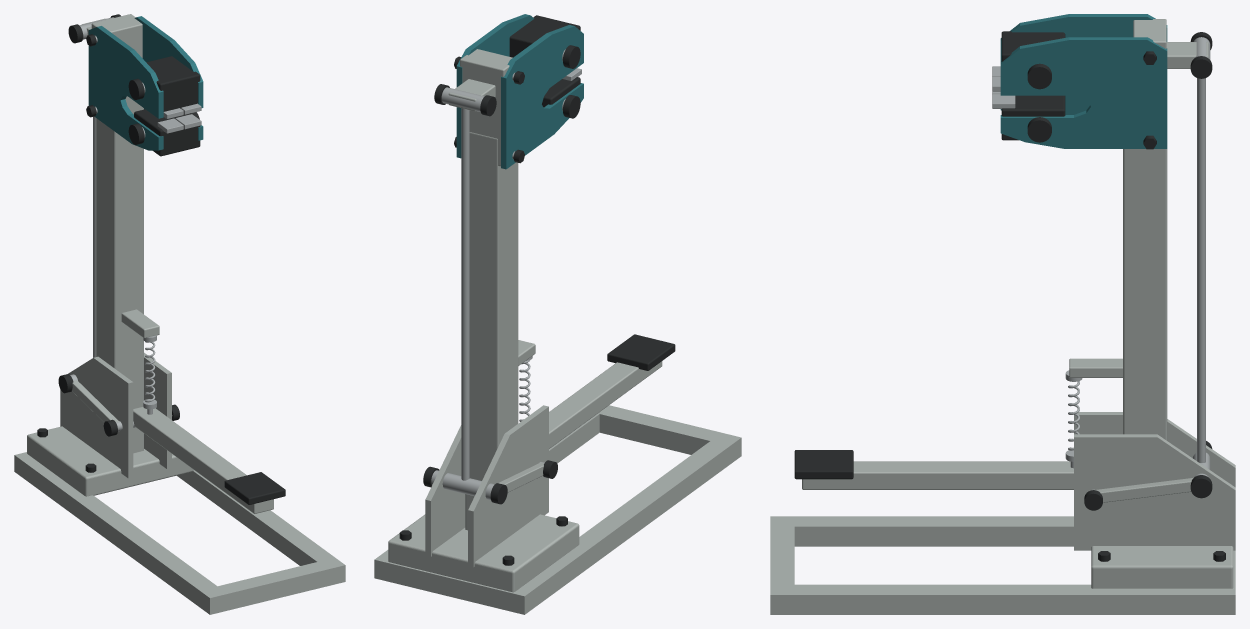
3 renders of one model, left to right at view 1: azimuth 30°, elevation 25°; view 2: azimuth 150°, elevation 25°; view 3: azimuth 270°, elevation 25°, orthographic. The views are drawn at different scales.
Parts seen in each view (by area): view 1: Integral rectangular floor rail base, Tall square support column, Paired C profile head sideplate -0.056, Lower linkage support cheek -0.054, Column floor mounting plate, Long forward foot pedal, Upper jaw supporting carrier, Paired C profile head sideplate 0.056, Lower linkage support cheek 0.054, Front pedal foot grip, Lower jaw supporting carrier, Head rear mounting spine (+3 smaller); view 2: Tall square support column, Integral rectangular floor rail base, Column floor mounting plate, Lower linkage support cheek -0.054, Paired C profile head sideplate -0.056, Long forward foot pedal, Long rear vertical actuation link, Lower linkage support cheek 0.054, Head rear mounting spine, Paired C profile head sideplate 0.056, Front pedal foot grip, Upper jaw supporting carrier (+5 smaller); view 3: Integral rectangular floor rail base, Paired C profile head sideplate 0.056, Lower linkage support cheek 0.054, Tall square support column, Long forward foot pedal, Column floor mounting plate, Long rear vertical actuation link, Paired C profile head sideplate -0.056, Lower linkage support cheek -0.054, Front pedal foot grip, Lower jaw supporting carrier, Side routed lower rocker 0.071 (+4 smaller).
Boxes of the visible parts, bbox=[...] form: Integral rectangular floor rail base: bbox=[14, 452, 345, 614]; Tall square support column: bbox=[96, 96, 143, 453]; Paired C profile head sideplate -0.056: bbox=[88, 26, 163, 150]; Lower linkage support cheek -0.054: bbox=[60, 356, 133, 478]; Column floor mounting plate: bbox=[27, 426, 193, 496]; Long forward foot pedal: bbox=[133, 407, 273, 513]; Upper jaw supporting carrier: bbox=[146, 56, 200, 111]; Paired C profile head sideplate 0.056: bbox=[134, 16, 203, 140]; Lower linkage support cheek 0.054: bbox=[144, 352, 171, 468]; Front pedal foot grip: bbox=[224, 472, 285, 504]; Lower jaw supporting carrier: bbox=[134, 109, 200, 156]; Head rear mounting spine: bbox=[91, 14, 142, 57]; Tall square support column: bbox=[465, 132, 518, 530]; Integral rectangular floor rail base: bbox=[374, 405, 741, 614]; Column floor mounting plate: bbox=[388, 514, 579, 592]; Lower linkage support cheek -0.054: bbox=[468, 405, 548, 567]; Paired C profile head sideplate -0.056: bbox=[501, 25, 583, 169]; Long forward foot pedal: bbox=[549, 361, 662, 448]; Long rear vertical actuation link: bbox=[461, 108, 469, 480]; Lower linkage support cheek 0.054: bbox=[425, 425, 465, 556]; Head rear mounting spine: bbox=[460, 49, 512, 166]; Paired C profile head sideplate 0.056: bbox=[456, 14, 534, 158]; Front pedal foot grip: bbox=[607, 334, 675, 370]; Upper jaw supporting carrier: bbox=[509, 15, 580, 57]; Integral rectangular floor rail base: bbox=[770, 516, 1235, 614]; Paired C profile head sideplate 0.056: bbox=[1000, 37, 1167, 148]; Lower linkage support cheek 0.054: bbox=[1074, 434, 1235, 550]; Tall square support column: bbox=[1123, 149, 1167, 440]; Long forward foot pedal: bbox=[802, 461, 1073, 489]; Column floor mounting plate: bbox=[1091, 546, 1233, 588]; Long rear vertical actuation link: bbox=[1197, 78, 1205, 462]; Paired C profile head sideplate -0.056: bbox=[1000, 14, 1167, 114]; Lower linkage support cheek -0.054: bbox=[1074, 412, 1235, 487]; Front pedal foot grip: bbox=[794, 450, 853, 479]; Lower jaw supporting carrier: bbox=[1001, 95, 1065, 140]; Side routed lower rocker 0.071: bbox=[1095, 477, 1193, 502].
Size of the model in its own units: 38 by 124 by 95.
